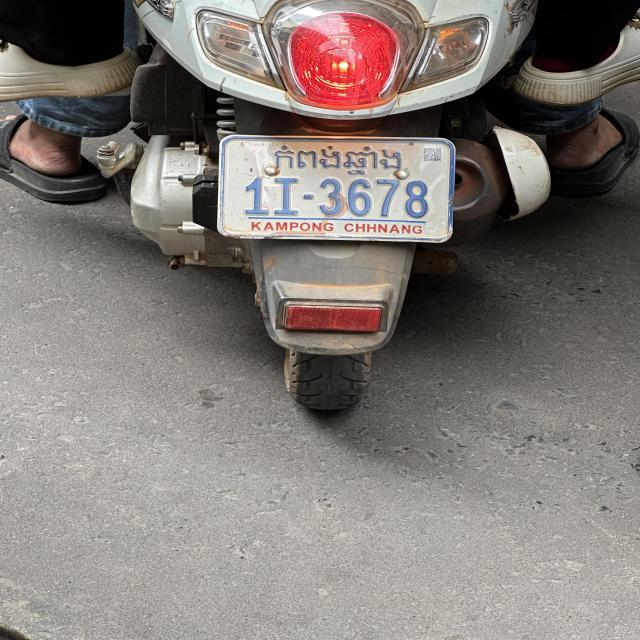Kampong_Chhnang: (270, 143, 407, 179)
